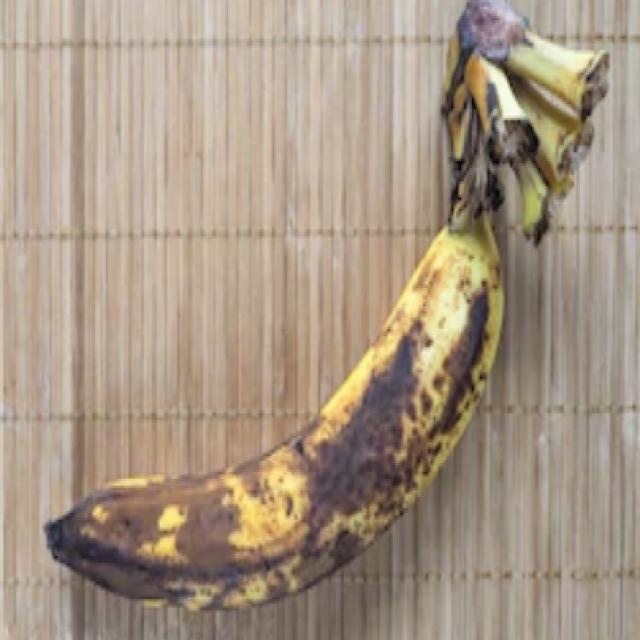rotten-banana: (43, 163, 520, 612)
